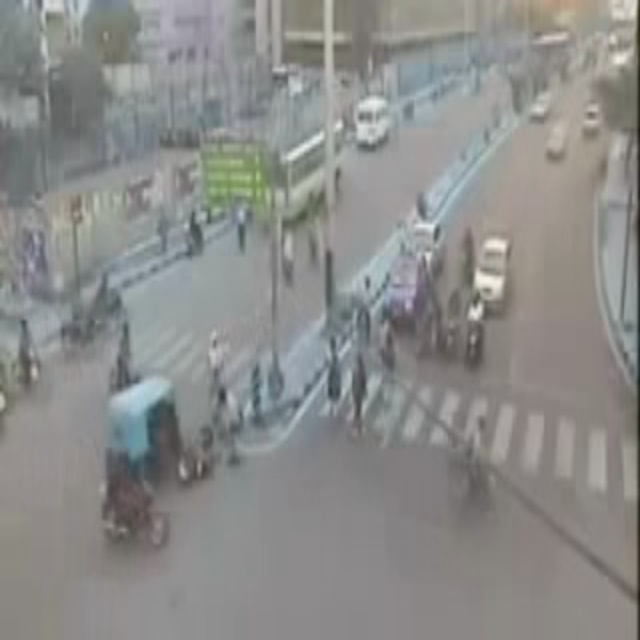acc: (102, 384, 218, 491)
